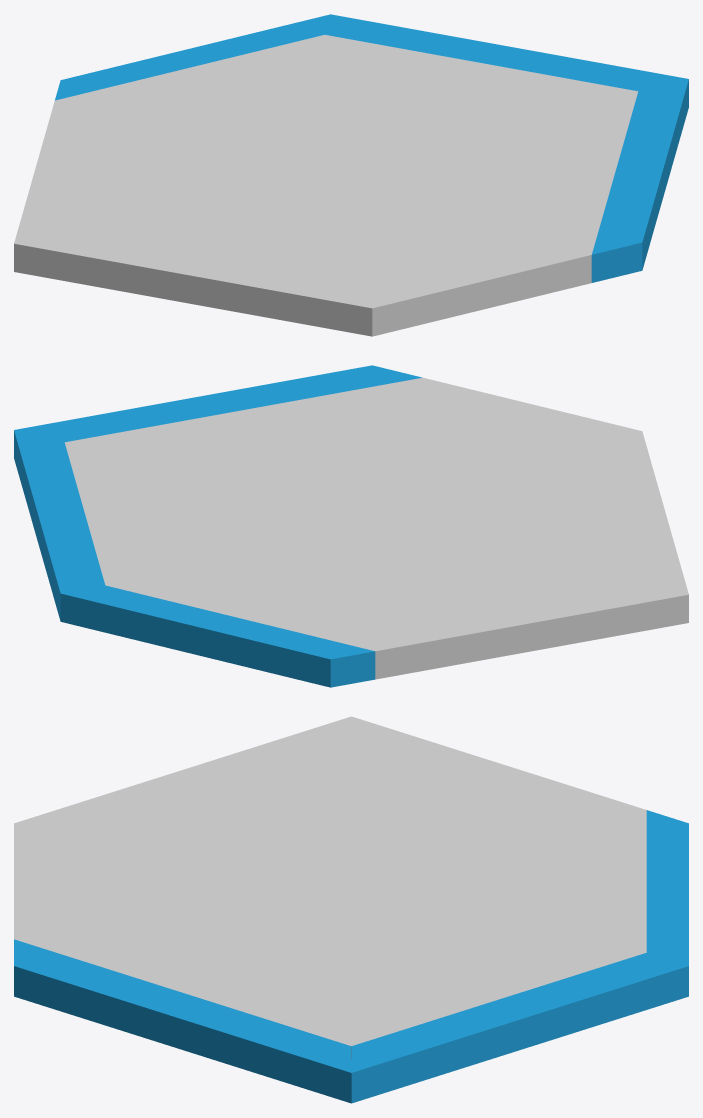
The picture shows the model from 3 angles, top to bottom: view 1: azimuth 30°, elevation 25°; view 2: azimuth 150°, elevation 25°; view 3: azimuth 270°, elevation 25°; orthographic projection. The views are drawn at different scales.
Parts seen in each view (by area): view 1: Hexagon, SE, NE, N; view 2: Hexagon, N, NE, SE; view 3: Hexagon, SE, NE, N.
Part boxes in pixels (<box>): Hexagon: <box>14,35,638,336</box>; SE: <box>591,79,688,282</box>; NE: <box>325,14,687,91</box>; N: <box>55,14,330,100</box>; Hexagon: <box>64,377,688,679</box>; N: <box>60,585,375,687</box>; NE: <box>14,430,104,620</box>; SE: <box>15,365,421,442</box>; Hexagon: <box>14,716,646,1058</box>; SE: <box>14,939,351,1103</box>; NE: <box>351,952,688,1103</box>; N: <box>646,810,688,965</box>.
Size of the model in its own units: 5 by 4 by 0.2.
